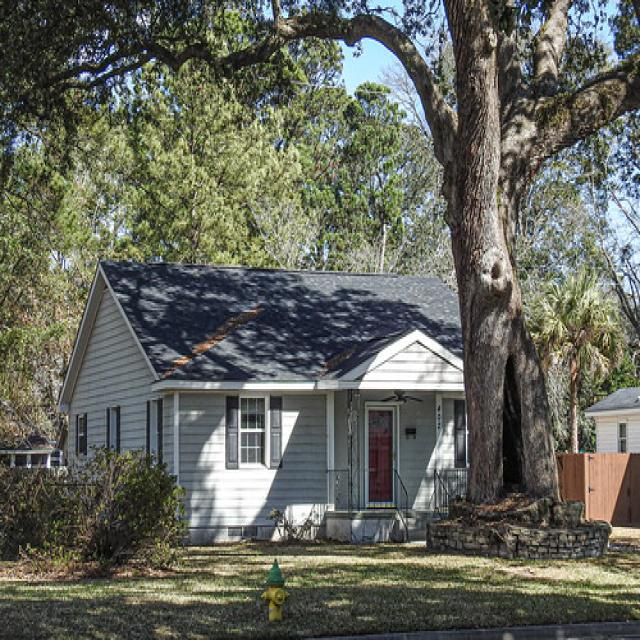building: (48, 249, 528, 556)
